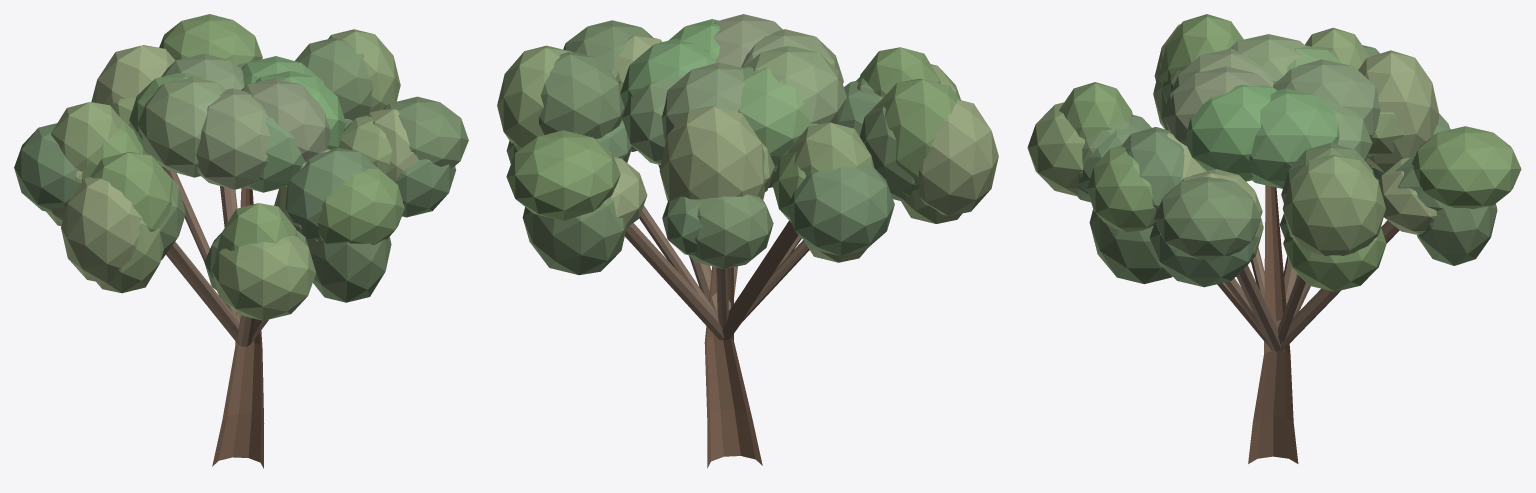
Rendered from old_oak_3.glb.
The picture shows the model from 3 angles, left to right: view 1: azimuth 30°, elevation 25°; view 2: azimuth 150°, elevation 25°; view 3: azimuth 270°, elevation 25°; orthographic projection. The views are drawn at different scales.
Visible parts, largest first — view 1: old_oak_3_15, old_oak_3_20, old_oak_3_46, old_oak_3_43, old_oak_3_10, old_oak_3_0, old_oak_3_9, old_oak_3_8, old_oak_3_25, old_oak_3_49, old_oak_3_5, old_oak_3_18 (+21 smaller); view 2: old_oak_3_28, old_oak_3_35, old_oak_3_25, old_oak_3_20, old_oak_3_38, old_oak_3_0, old_oak_3_34, old_oak_3_30, old_oak_3_18, old_oak_3_48, old_oak_3_43, old_oak_3_40 (+23 smaller); view 3: old_oak_3_40, old_oak_3_35, old_oak_3_5, old_oak_3_0, old_oak_3_47, old_oak_3_28, old_oak_3_44, old_oak_3_10, old_oak_3_45, old_oak_3_15, old_oak_3_34, old_oak_3_39 (+21 smaller).
Part boxes in pixels (bbox=[...]): old_oak_3_15: bbox=[211, 236, 316, 320]; old_oak_3_20: bbox=[61, 177, 142, 283]; old_oak_3_46: bbox=[196, 88, 270, 189]; old_oak_3_43: bbox=[137, 76, 225, 177]; old_oak_3_10: bbox=[317, 167, 404, 244]; old_oak_3_0: bbox=[212, 187, 264, 468]; old_oak_3_9: bbox=[309, 236, 391, 302]; old_oak_3_8: bbox=[285, 147, 377, 240]; old_oak_3_25: bbox=[14, 123, 80, 211]; old_oak_3_49: bbox=[241, 78, 330, 161]; old_oak_3_5: bbox=[383, 96, 468, 167]; old_oak_3_18: bbox=[90, 152, 172, 231]; old_oak_3_28: bbox=[659, 106, 765, 200]; old_oak_3_35: bbox=[506, 130, 620, 220]; old_oak_3_25: bbox=[786, 165, 894, 256]; old_oak_3_20: bbox=[918, 100, 998, 215]; old_oak_3_38: bbox=[539, 52, 624, 138]; old_oak_3_0: bbox=[704, 266, 762, 468]; old_oak_3_34: bbox=[522, 196, 626, 274]; old_oak_3_30: bbox=[689, 194, 773, 268]; old_oak_3_18: bbox=[875, 78, 959, 196]; old_oak_3_48: bbox=[738, 66, 817, 167]; old_oak_3_43: bbox=[743, 46, 846, 124]; old_oak_3_40: bbox=[497, 45, 571, 147]; old_oak_3_40: bbox=[1282, 154, 1385, 256]; old_oak_3_35: bbox=[1411, 126, 1521, 209]; old_oak_3_5: bbox=[1154, 176, 1261, 260]; old_oak_3_0: bbox=[1248, 185, 1298, 463]; old_oak_3_47: bbox=[1249, 88, 1339, 188]; old_oak_3_28: bbox=[1358, 50, 1439, 172]; old_oak_3_44: bbox=[1185, 84, 1276, 181]; old_oak_3_10: bbox=[1087, 145, 1156, 231]; old_oak_3_45: bbox=[1273, 59, 1380, 137]; old_oak_3_15: bbox=[1027, 102, 1084, 196]; old_oak_3_34: bbox=[1417, 204, 1497, 265]; old_oak_3_39: bbox=[1283, 227, 1386, 291].
Bounding box in the file's own units: 9.33 × 8.95 × 9.89.
